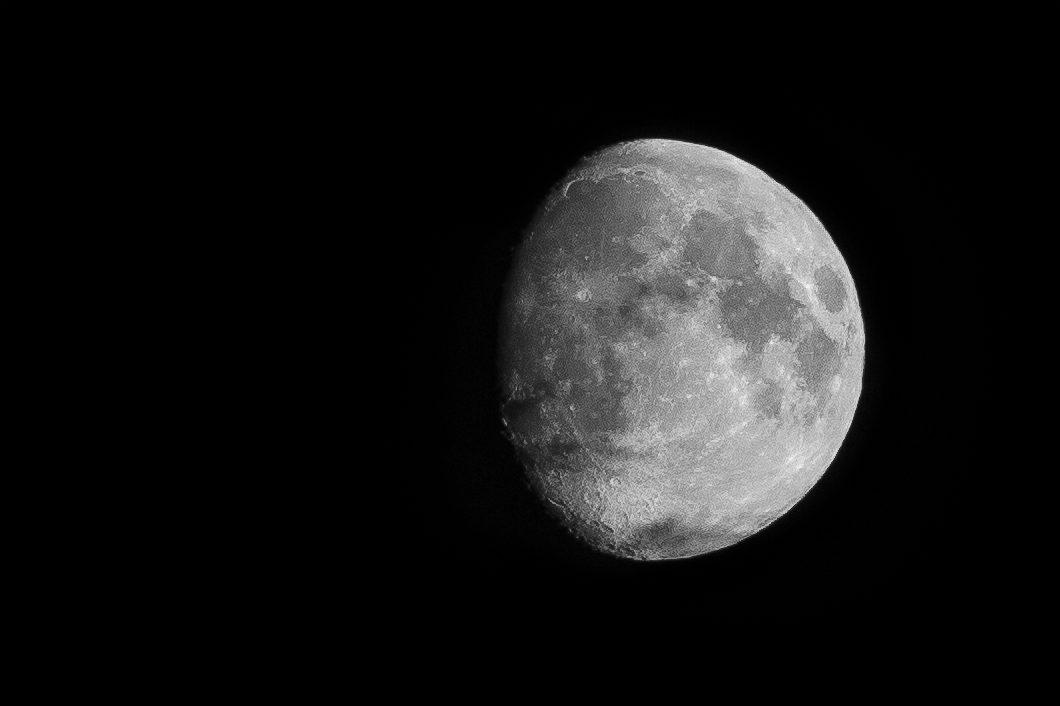crater: (807, 256, 847, 329), (592, 460, 633, 504), (568, 285, 600, 310), (541, 491, 573, 514), (630, 165, 654, 185), (605, 230, 626, 250), (564, 399, 584, 417), (565, 310, 582, 329), (645, 412, 665, 428)
